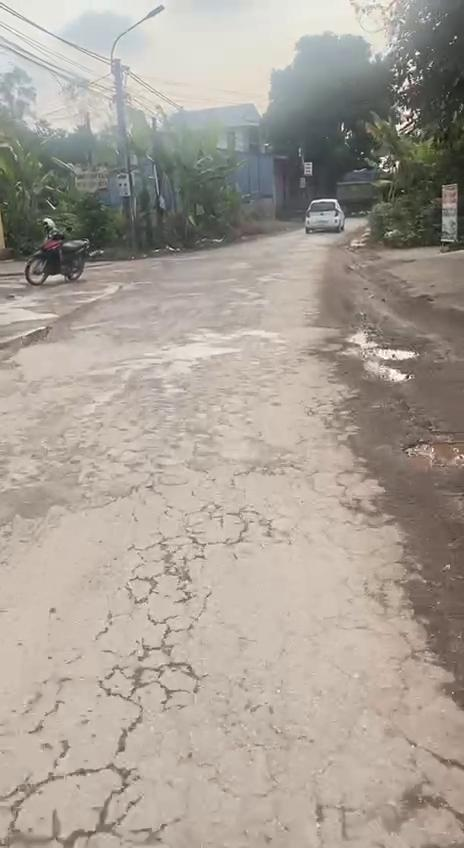pothole: (97, 508, 262, 714), (0, 760, 176, 848), (391, 734, 464, 834), (345, 326, 418, 382), (398, 436, 464, 470), (20, 324, 52, 346)
